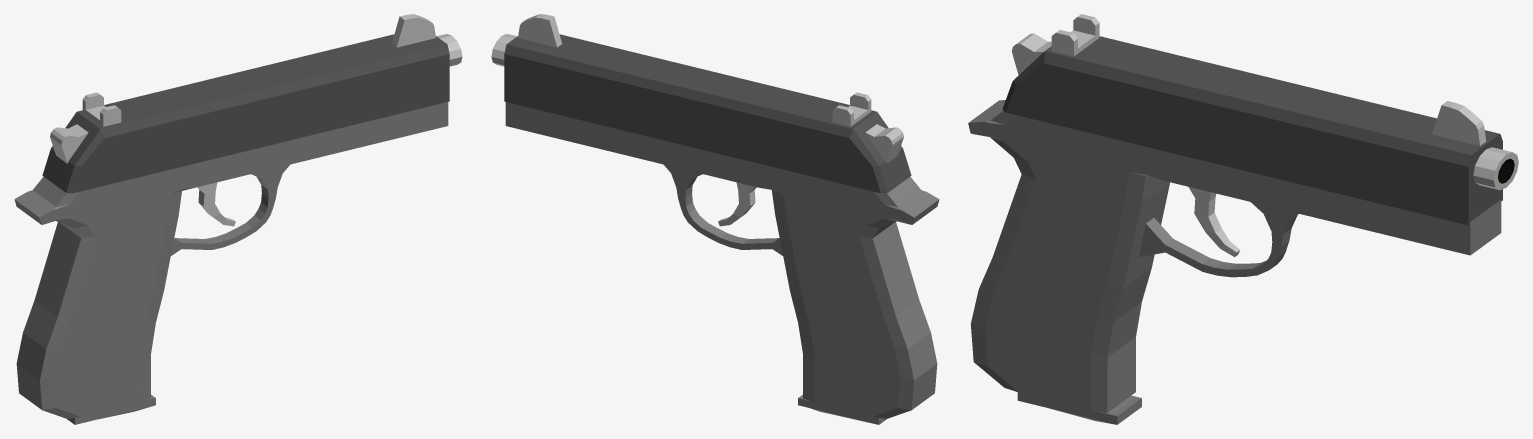
The picture shows the model from 3 angles, left to right: view 1: azimuth 30°, elevation 25°; view 2: azimuth 150°, elevation 25°; view 3: azimuth 330°, elevation 25°; orthographic projection. The views are drawn at different scales.
Parts seen in each view (by area): view 1: Cube, Cube.001, Cube.002, Cube.004, Cylinder, Cube.005, Cube.003, Cylinder.001; view 2: Cube, Cube.001, Cube.002, Cube.004, Cylinder, Cube.005, Cube.003, Cylinder.001; view 3: Cube, Cube.001, Cube.002, Cube.004, Cylinder.001, Cube.005, Cube.003, Cylinder.
Boxes of the visible parts, <box> form: Cube: <box>14,102,448,418</box>; Cube.001: <box>42,34,449,193</box>; Cube.002: <box>171,164,289,255</box>; Cube.004: <box>82,14,435,126</box>; Cylinder: <box>50,124,88,163</box>; Cube.005: <box>67,394,155,424</box>; Cube.003: <box>197,182,235,226</box>; Cylinder.001: <box>437,34,462,66</box>; Cube: <box>505,102,939,418</box>; Cube.001: <box>504,34,911,193</box>; Cube.002: <box>664,164,782,255</box>; Cube.004: <box>518,14,871,126</box>; Cylinder: <box>865,124,903,163</box>; Cube.005: <box>798,394,886,424</box>; Cube.003: <box>718,182,756,226</box>; Cylinder.001: <box>491,34,516,66</box>; Cube: <box>968,100,1501,412</box>; Cube.001: <box>1002,36,1502,225</box>; Cube.002: <box>1138,202,1298,277</box>; Cube.004: <box>1051,14,1486,145</box>; Cylinder.001: <box>1473,147,1518,190</box>; Cube.005: <box>1017,392,1141,424</box>; Cube.003: <box>1188,187,1240,257</box>; Cylinder: <box>1012,33,1051,75</box>.
Bounding box in the file's own units: 950 × 683 × 109.
